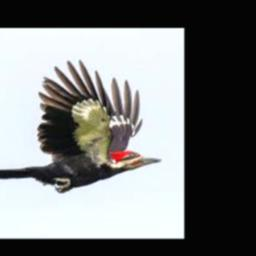Woodpecker: (0, 59, 163, 193)
